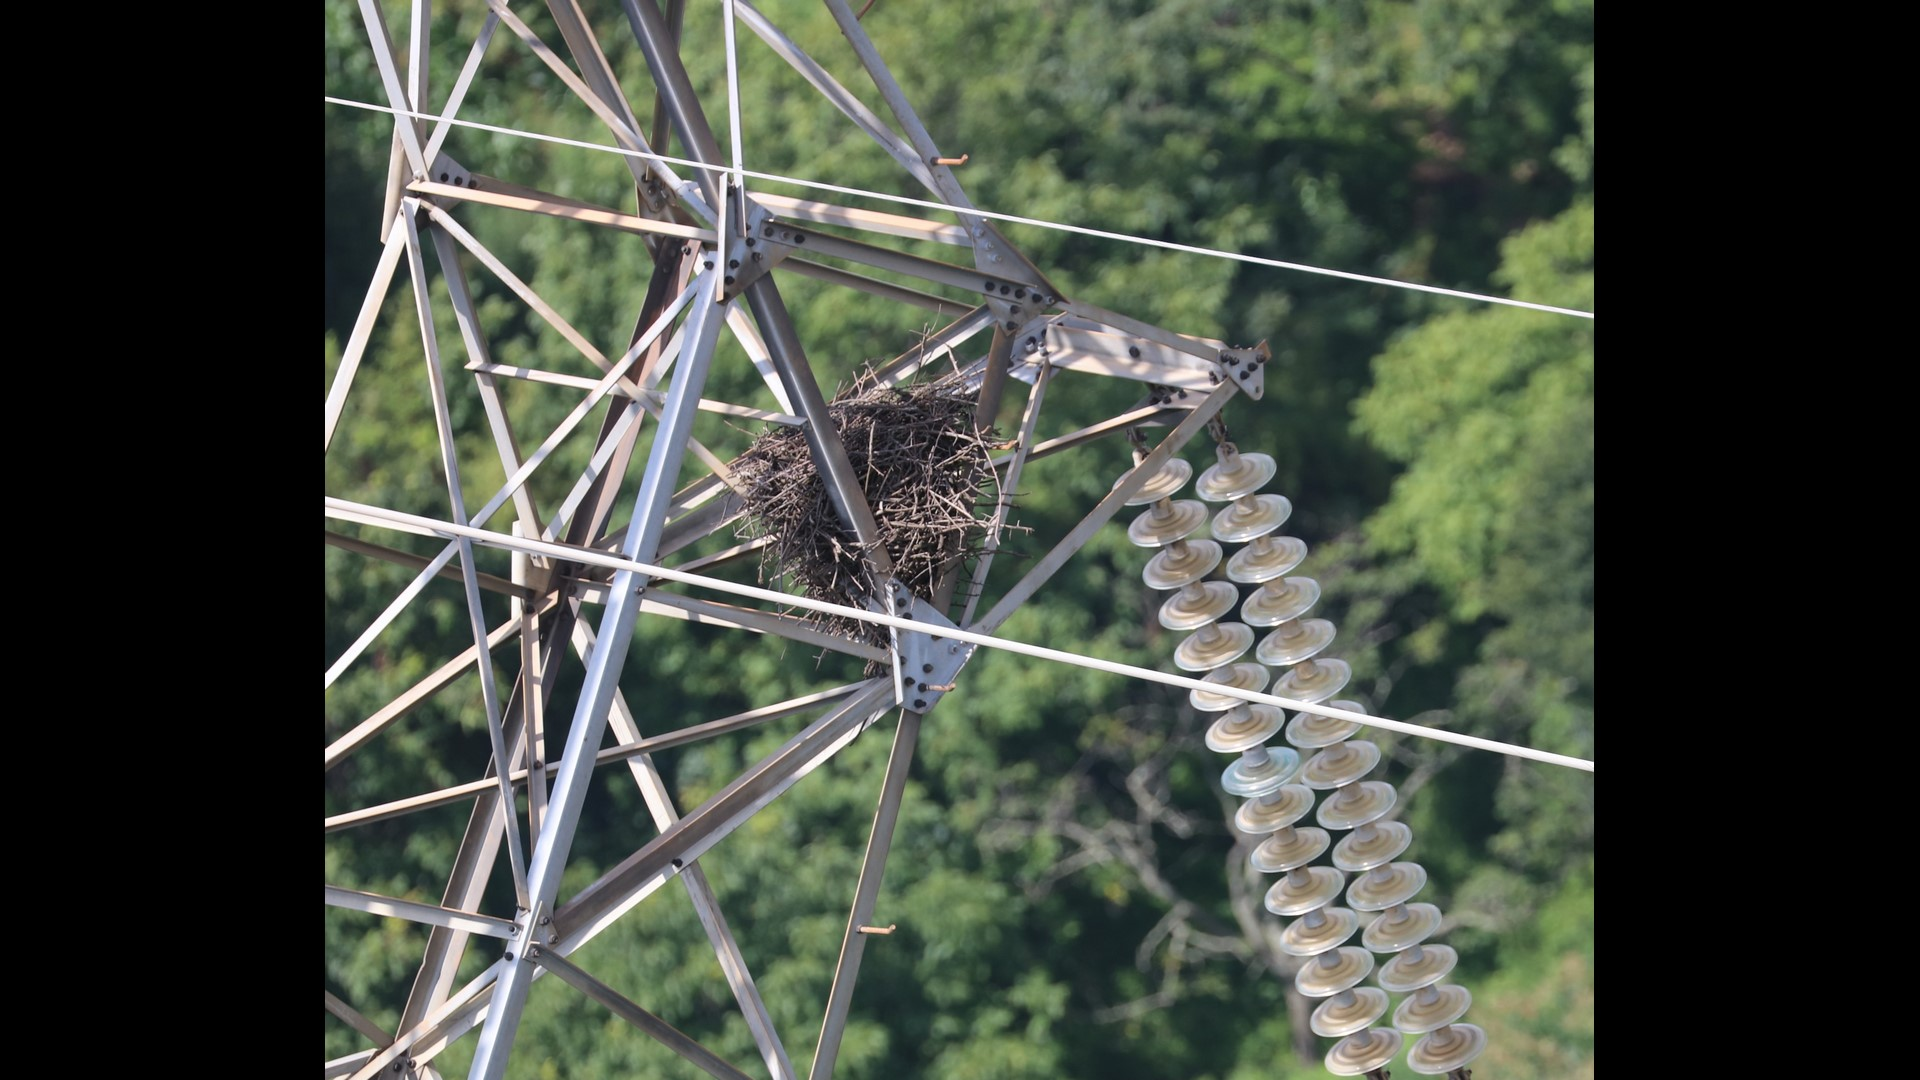niaowo: (727, 367, 1009, 616)
